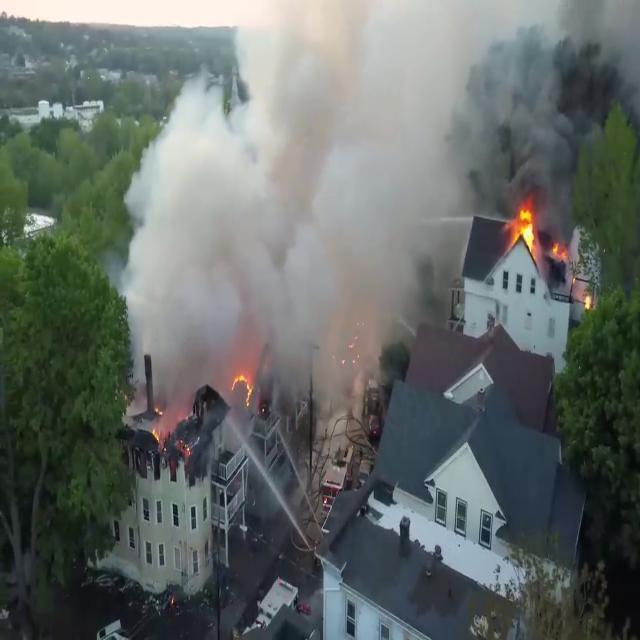Fire: (508, 197, 540, 256), (231, 362, 255, 407)
Smoke: (117, 0, 595, 422)
